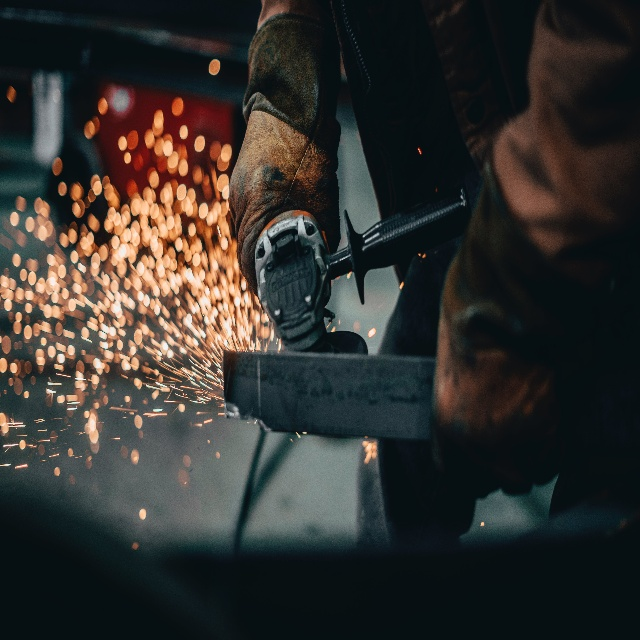Guantes: (428, 153, 609, 536), (228, 12, 342, 296)
